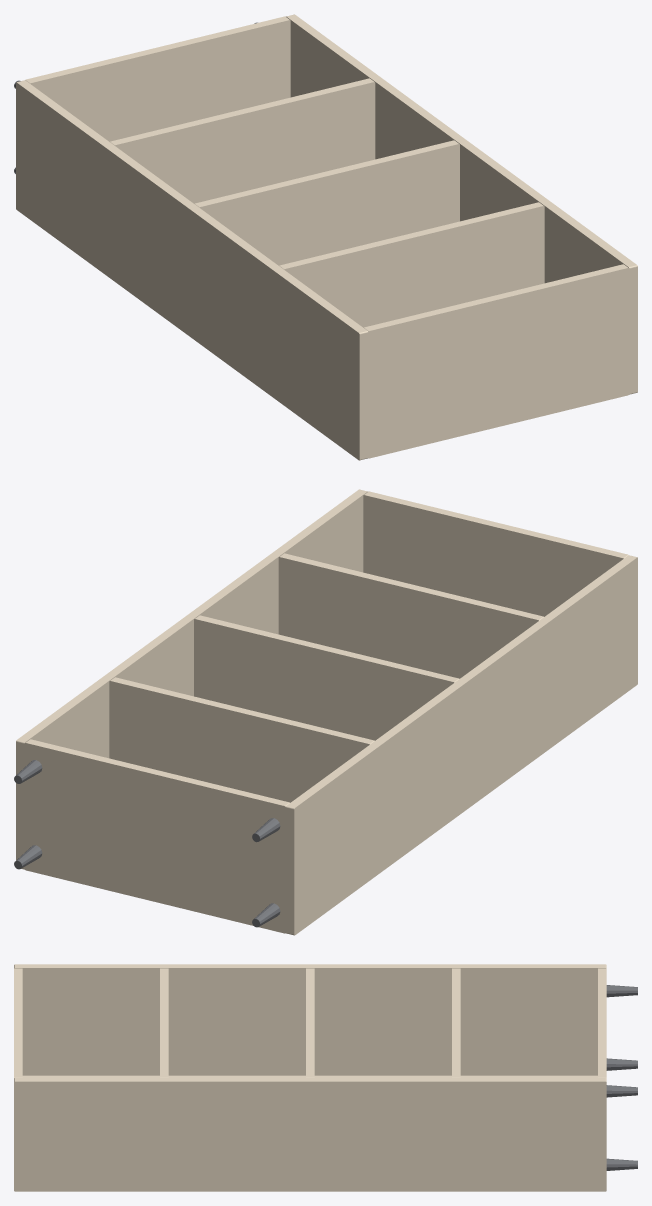
File: shelf_unit.glb
The picture shows the model from 3 angles, top to bottom: view 1: azimuth 30°, elevation 25°; view 2: azimuth 150°, elevation 25°; view 3: azimuth 270°, elevation 25°; orthographic projection. The views are drawn at different scales.
Parts seen in each view (by area): view 1: side, shelf_6, shelf_3, shelf_5, shelf, shelf_4, side_1; view 2: side, shelf, shelf_5, shelf_3, shelf_6, shelf_4, side_1; view 3: side_1, side, back, shelf, shelf_3, shelf_4, shelf_5, shelf_6, leg, leg_11, leg_9, leg_10.
Boxes of the visible parts, x1=… form: side: x1=16, y1=80, x2=368, y2=460; shelf_6: x1=364, y1=264, x2=629, y2=458; shelf_3: x1=110, y1=78, x2=375, y2=203; shelf_5: x1=279, y1=202, x2=544, y2=327; shelf: x1=25, y1=16, x2=290, y2=141; shelf_4: x1=194, y1=140, x2=459, y2=265; side_1: x1=286, y1=14, x2=637, y2=394; side: x1=285, y1=555, x2=637, y2=935; shelf: x1=24, y1=739, x2=289, y2=933; shelf_5: x1=278, y1=553, x2=543, y2=678; shelf_3: x1=109, y1=677, x2=374, y2=802; shelf_6: x1=363, y1=491, x2=628, y2=616; shelf_4: x1=194, y1=615, x2=459, y2=740; side_1: x1=16, y1=489, x2=367, y2=869; side_1: x1=14, y1=1078, x2=606, y2=1191; side: x1=14, y1=964, x2=606, y2=1075; back: x1=22, y1=1075, x2=597, y2=1077; shelf: x1=598, y1=968, x2=606, y2=1077; shelf_3: x1=452, y1=968, x2=460, y2=1077; shelf_4: x1=306, y1=968, x2=314, y2=1077; shelf_5: x1=160, y1=968, x2=168, y2=1077; shelf_6: x1=14, y1=968, x2=22, y2=1077; leg: x1=606, y1=1058, x2=637, y2=1070; leg_11: x1=606, y1=1085, x2=637, y2=1097; leg_9: x1=606, y1=985, x2=637, y2=997; leg_10: x1=606, y1=1158, x2=637, y2=1170.
Bounding box in the file's own units: 0.8 × 0.35 × 1.8.
